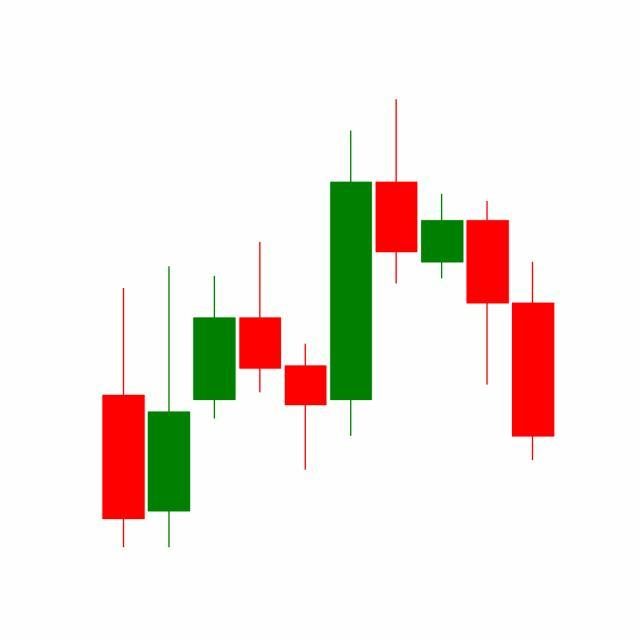Hikkake Pattern: (283, 99, 512, 476)
